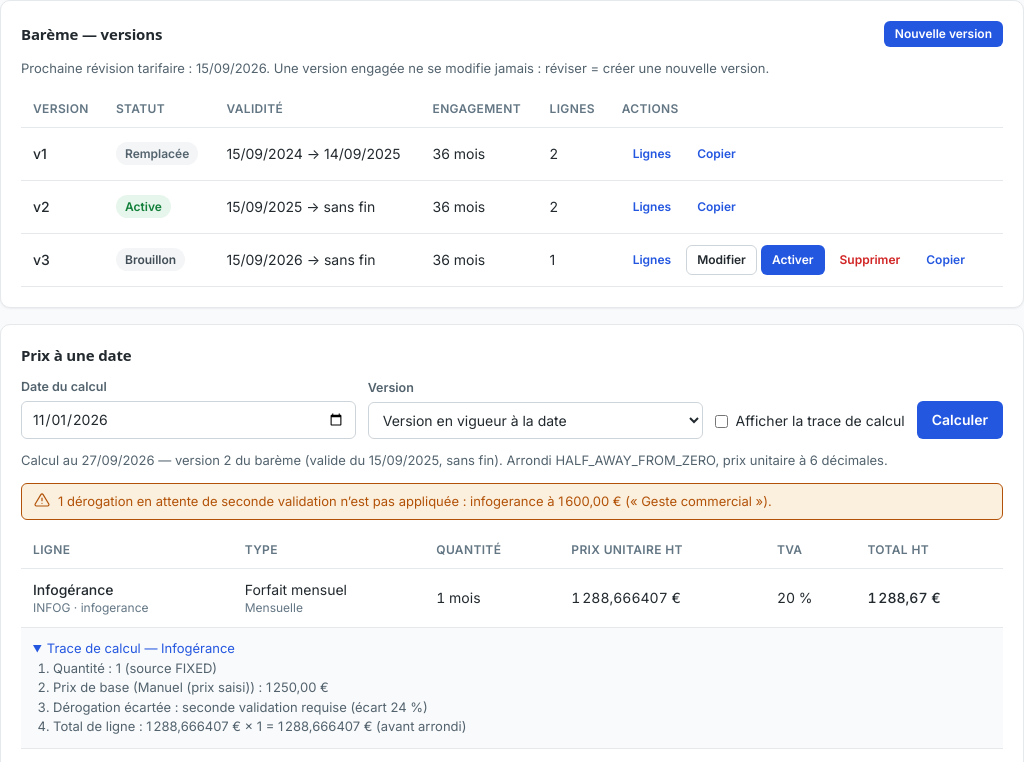
Test: activation d’un brouillon : confirmation, POST, erreur serveur affichée
This screenshot has width=1024, height=762.
Click the button with aria-label "Activer la version 3".
click(793, 260)  # box [761,244,824,274]
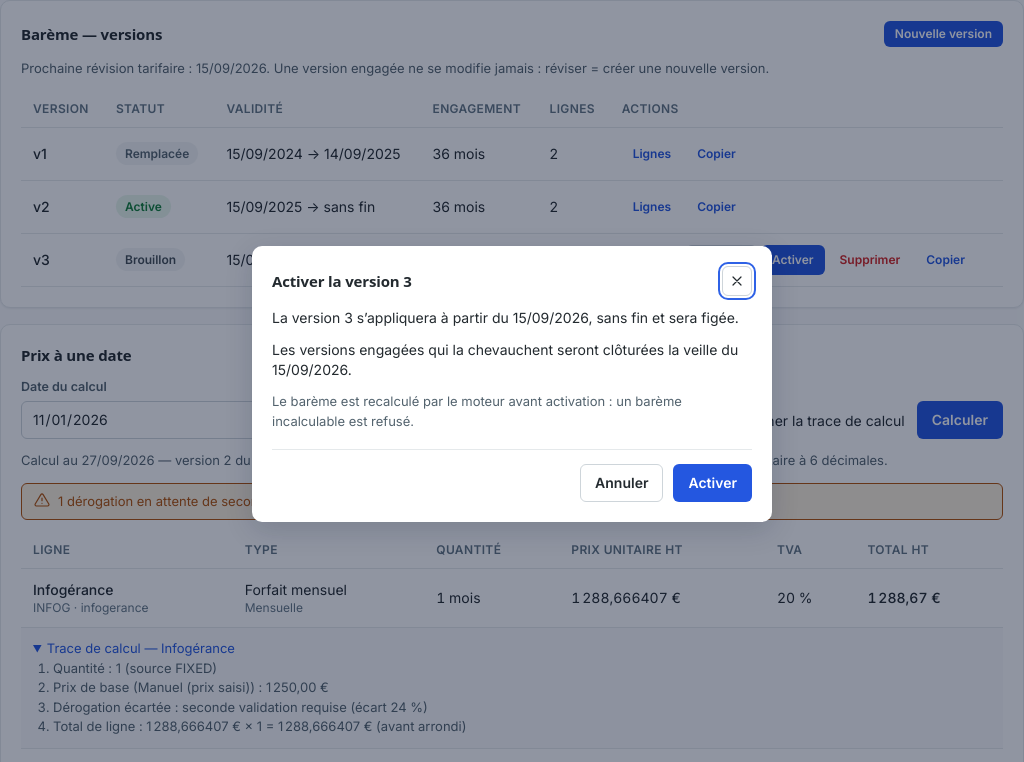
Now the text "clôturées la veille du 15/09/2026" is shown, box [272,340,752,380]
Click the button "Activer".
click(713, 483)  # box [674,464,752,502]
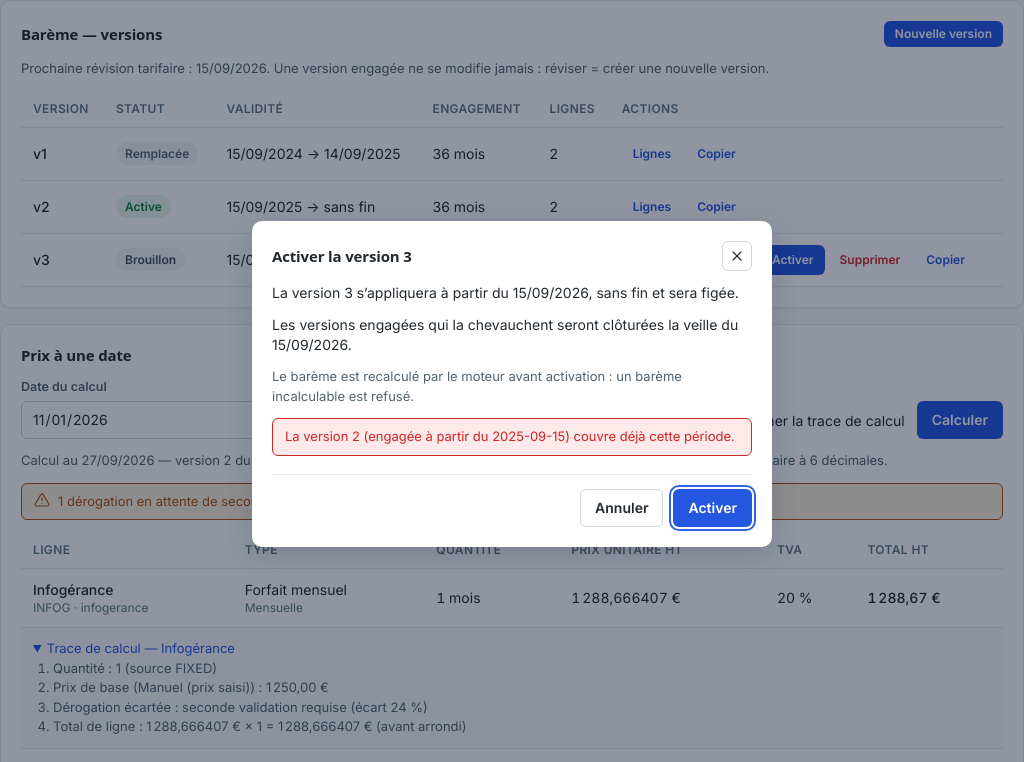
Now the message shows "couvre déjà cette période", box [285,428,735,444]
